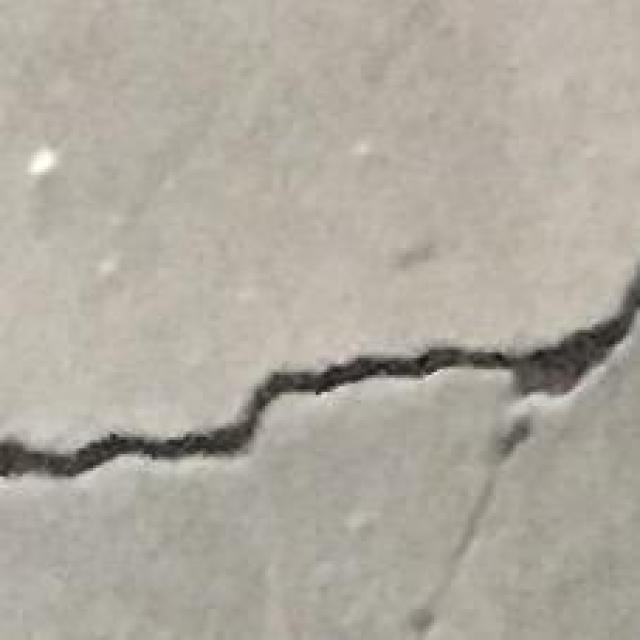horizontal crack: (0, 270, 639, 477)
